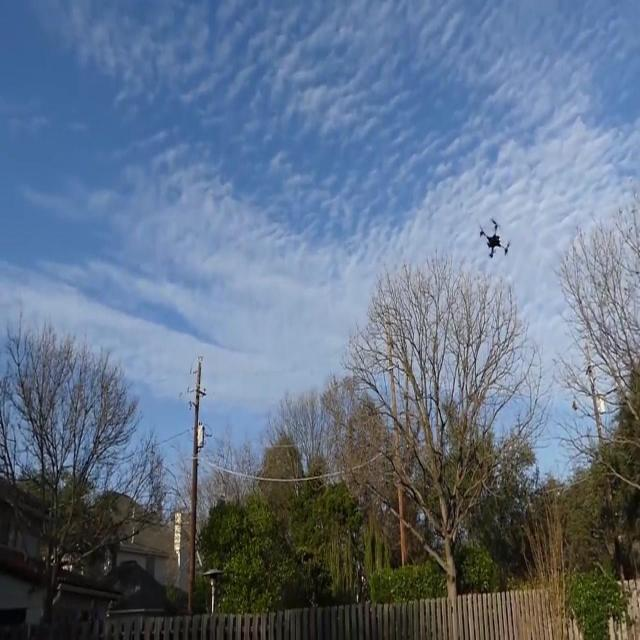UAV: (478, 217, 512, 259)
